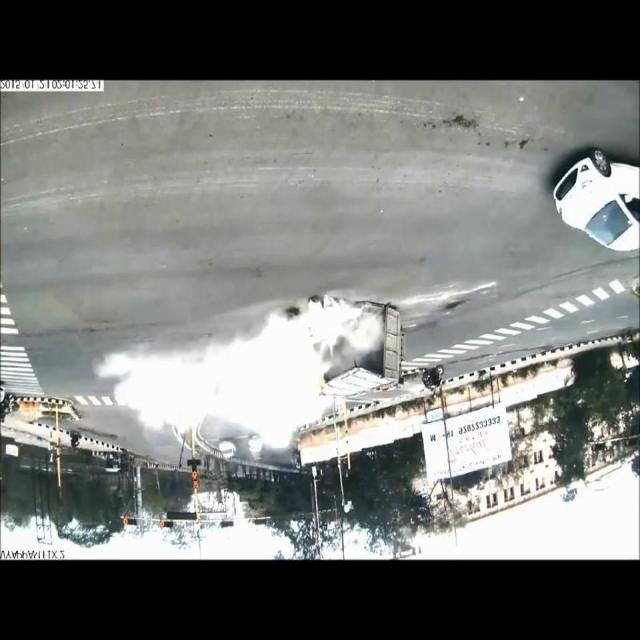severe: (300, 295, 406, 413)
